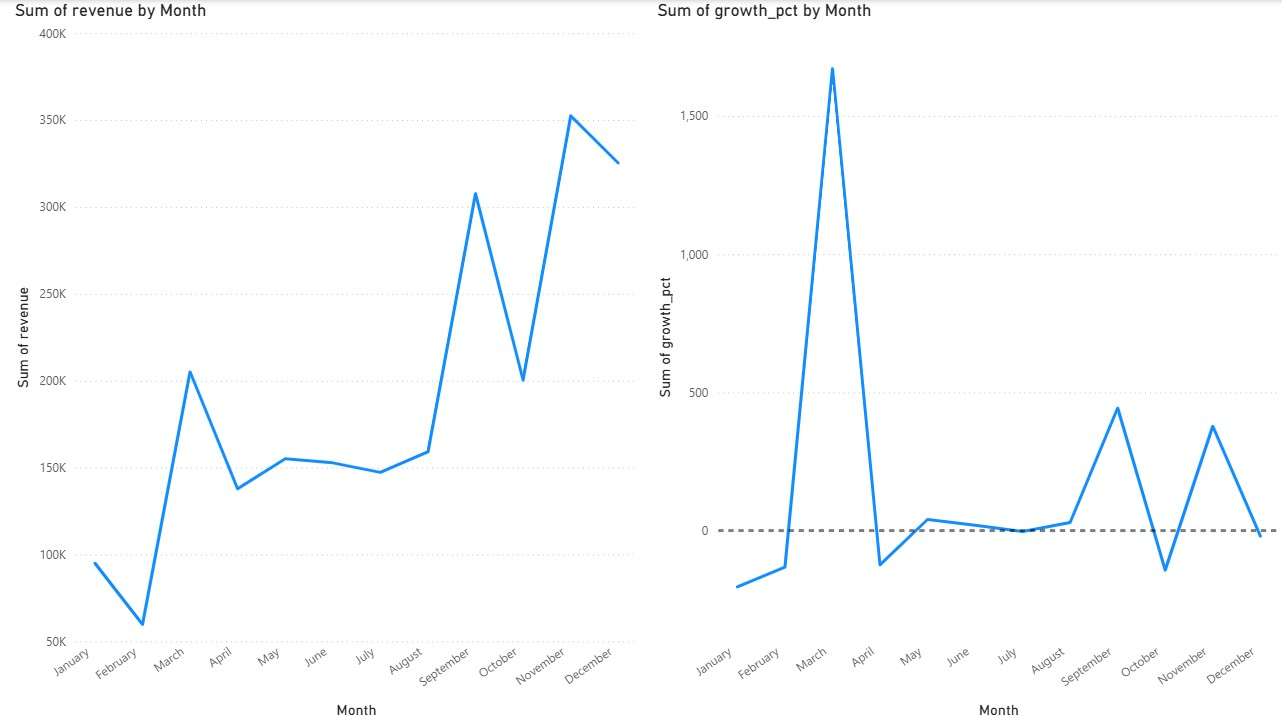

The dashboard page shown, as its layout file describes it:
{"tool":"powerbi","page":{"name":"Page 3","canvas":[1280,720],"ordinal":2},"visuals":[{"type":"lineChart","fields":{"Category":["Monthly trend.month.Variation.Date Hierarchy.Month"],"Y":["Sum(Monthly trend.revenue)"]},"box":[10,0,629.4,720.3],"z":0},{"type":"lineChart","fields":{"Category":["Monthly trend.month.Variation.Date Hierarchy.Month"],"Y":["Sum(Monthly trend.growth_pct)"]},"box":[649,0,629,720],"z":1}]}

Visuals, with their boxes in screenshot pixels (x1, y1, x2, y2), scaled from the page's 1280x720 canvas onto the 1282x716 screenshot:
lineChart - Monthly trend.month.Variation.Date Hierarchy.Month x Sum(Monthly trend.revenue): 10:0:640:715
lineChart - Monthly trend.month.Variation.Date Hierarchy.Month x Sum(Monthly trend.growth_pct): 650:0:1280:715
